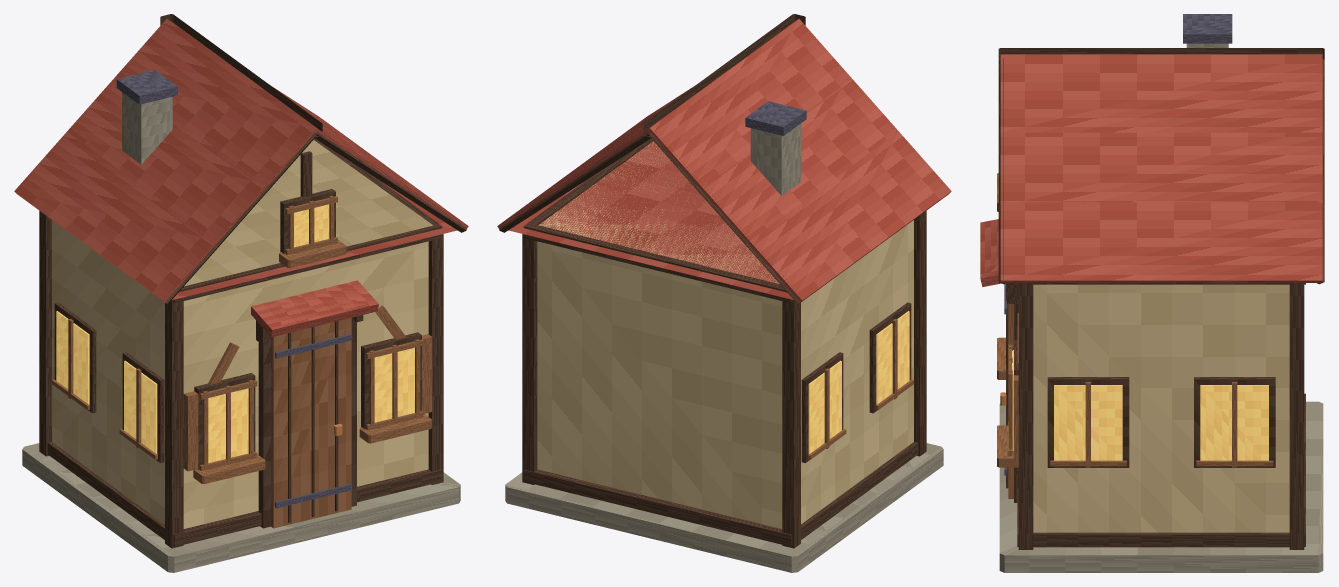
File: Maison_Toit_Rouge.glb
3 renders of one model, left to right at view 1: azimuth 30°, elevation 25°; view 2: azimuth 150°, elevation 25°; view 3: azimuth 270°, elevation 25°, orthographic. The views are drawn at different scales.
Visible parts, largest first — view 1: Structure; view 2: Structure; view 3: Structure.
Boxes of the visible parts, x1=… form: Structure: x1=14, y1=14, x2=468, y2=572; Structure: x1=497, y1=14, x2=951, y2=572; Structure: x1=980, y1=14, x2=1324, y2=572.
Bounding box in the file's own units: 4.69 × 6.07 × 4.26.
2 materials, 2 textured.
